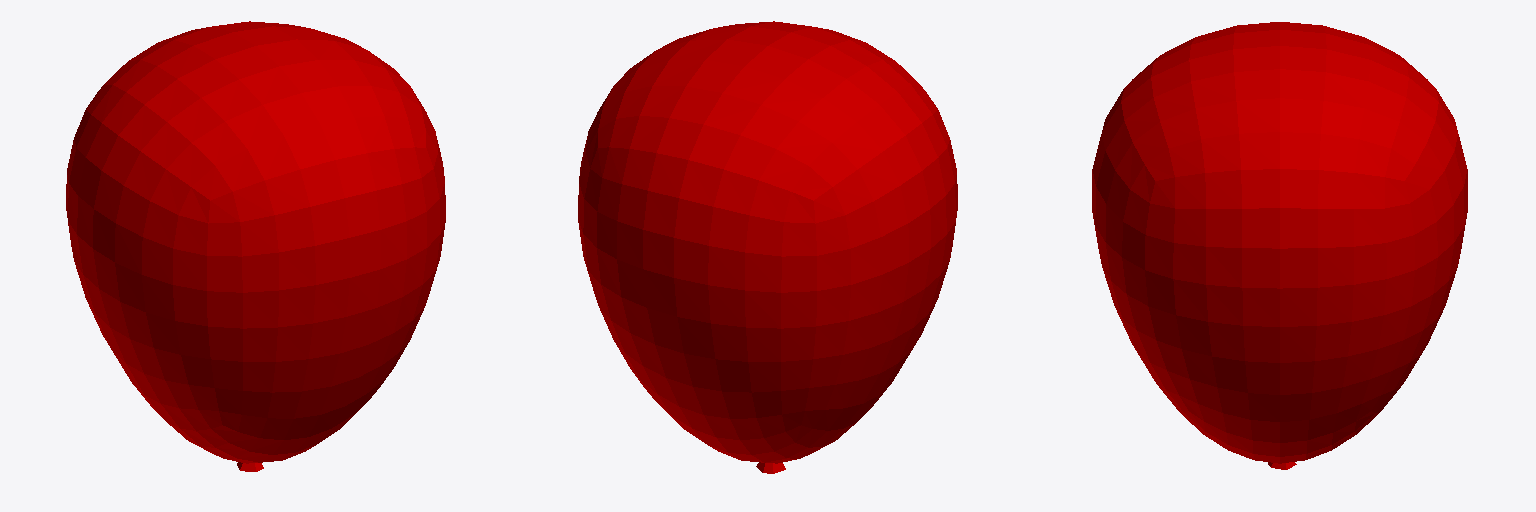
Rendered from baloon2_hp.obj.
3 renders of one model, left to right at view 1: azimuth 30°, elevation 25°; view 2: azimuth 150°, elevation 25°; view 3: azimuth 270°, elevation 25°, orthographic.
Parts seen in each view (by area): view 1: Cube.002; view 2: Cube.002; view 3: Cube.002.
Boxes of the visible parts, box(x1,y1,x2,y2) form: Cube.002: box(66, 21, 445, 463); Cube.002: box(578, 21, 957, 463); Cube.002: box(1092, 22, 1467, 463).
Size of the model in its own units: 1.19 by 1.47 by 1.19.